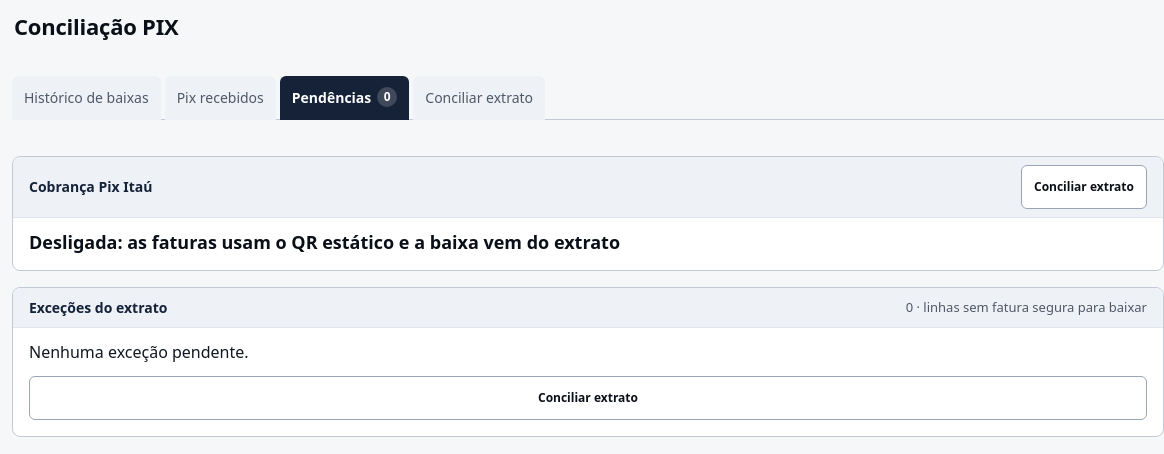
it: Conciliação PIX › qualquer Departamento lê a Conciliação; conciliar o extrato é do Financeiro e do Administrativo (ADR 0085, D5)
The width and height of the screenshot is (1164, 454).
Expected: the tab "Pendências 0" is shown, 280,76 -> 409,120
Expected: the text "Desligada: as faturas usam o QR estático e a baixa vem do extrato" is shown, 29,230 -> 620,254
Click the tab "Conciliar extrato". click: [479, 98]
box: 413,76 -> 545,120
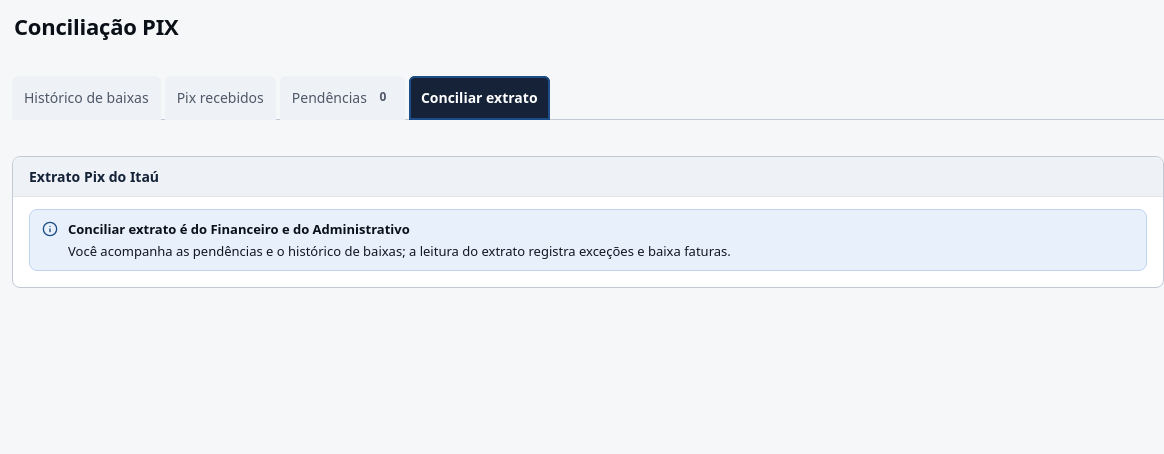
Expected: the text "Conciliar extrato é do Financeiro e do Administrativo" is shown, 68,220 -> 410,238
